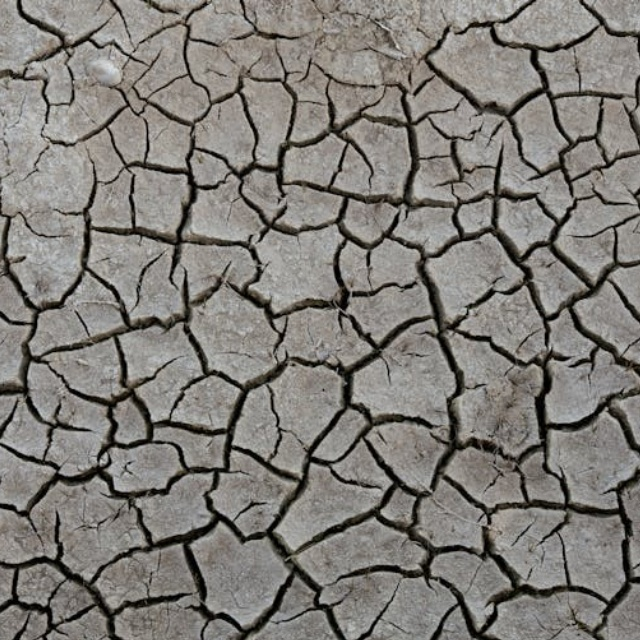细微裂纹: (300, 0, 505, 224)
网状裂隙: (0, 62, 640, 640)
